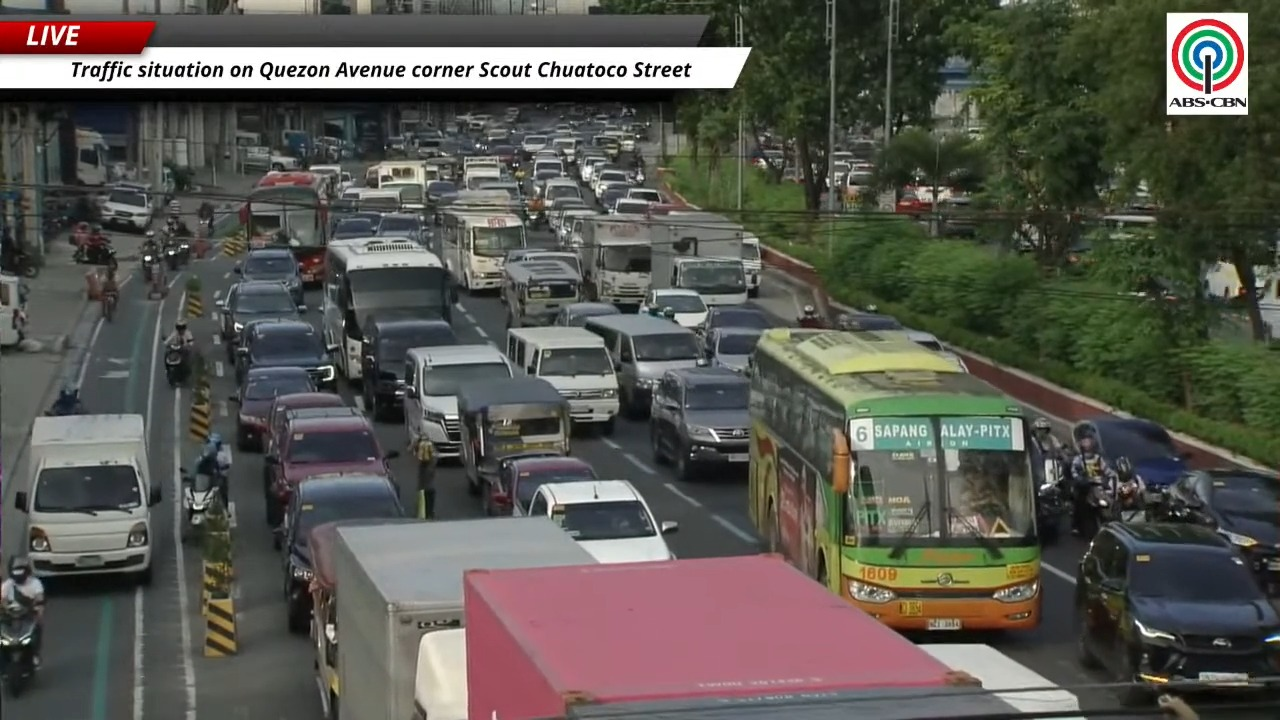bus: (746, 328, 1040, 630), (322, 237, 456, 382), (241, 171, 328, 285), (440, 206, 526, 291)
car: (1074, 522, 1279, 704), (274, 474, 404, 633), (264, 417, 398, 527), (1163, 469, 1279, 588), (528, 480, 677, 563), (649, 367, 748, 481), (362, 315, 457, 419), (1072, 415, 1189, 491), (230, 366, 315, 450), (235, 319, 335, 389), (216, 282, 301, 359), (499, 456, 598, 516), (263, 391, 354, 453), (235, 247, 302, 305), (703, 327, 763, 372), (639, 289, 707, 328), (906, 330, 968, 372), (100, 184, 153, 232), (506, 249, 580, 275), (702, 306, 775, 332), (376, 213, 429, 246), (552, 302, 620, 326), (835, 311, 904, 331), (332, 217, 379, 239), (598, 182, 630, 210), (426, 180, 459, 205), (609, 197, 649, 215), (625, 187, 667, 203)
motorcycle: (0, 603, 37, 697), (182, 468, 228, 541), (1035, 459, 1068, 544), (1079, 481, 1115, 539), (164, 344, 187, 387), (73, 241, 115, 264), (14, 247, 39, 277), (45, 399, 86, 416), (162, 239, 182, 272), (141, 251, 158, 283), (101, 290, 118, 321), (797, 316, 826, 328), (635, 168, 645, 184)
truck: (464, 556, 1011, 719), (323, 518, 595, 717), (15, 414, 160, 583), (920, 643, 1084, 719), (651, 211, 747, 306), (579, 216, 653, 306), (412, 629, 467, 719), (44, 119, 113, 187)
